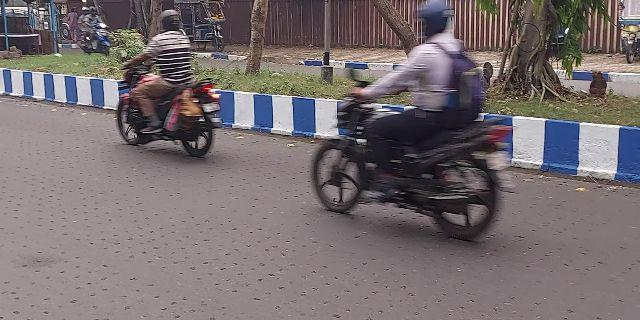Motorbike: (305, 5, 518, 245), (107, 5, 225, 171)
